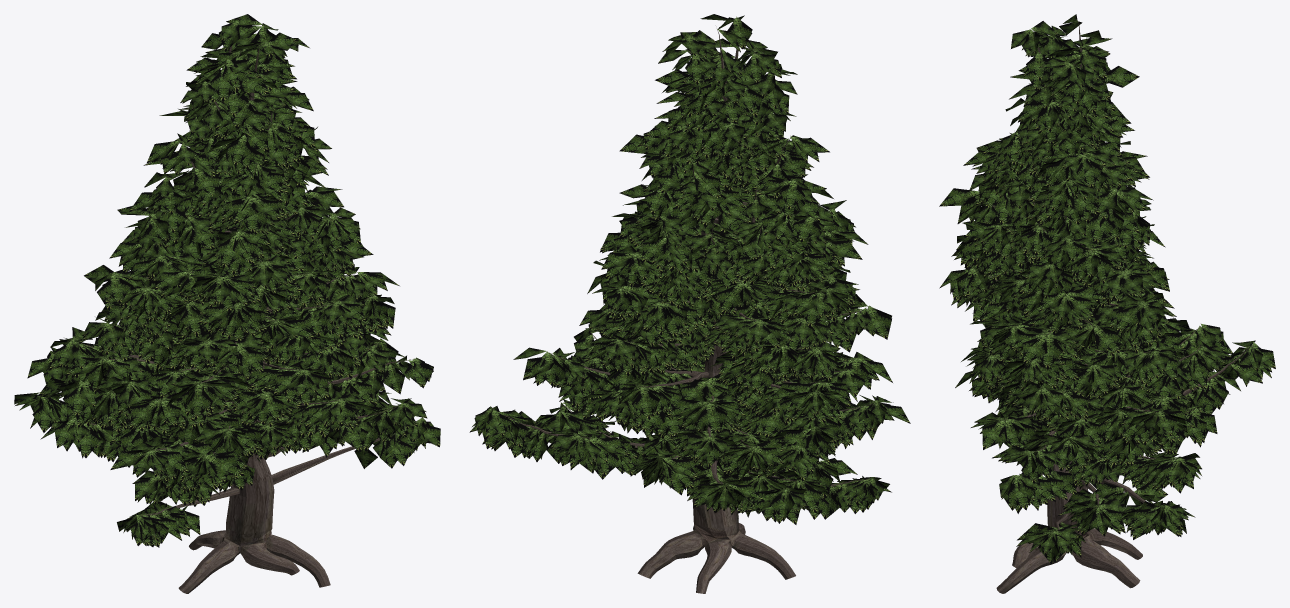
Rendered from needle4.obj.
3 renders of one model, left to right at view 1: azimuth 30°, elevation 25°; view 2: azimuth 150°, elevation 25°; view 3: azimuth 270°, elevation 25°, orthographic.
Parts seen in each view (by area): view 1: (null); view 2: (null); view 3: (null).
Part boxes in pixels (x1=…): (null): x1=14, y1=14, x2=440, y2=593; (null): x1=469, y1=14, x2=910, y2=593; (null): x1=939, y1=14, x2=1275, y2=593.
Size of the model in its own units: 11.05 by 16.08 by 8.89.
